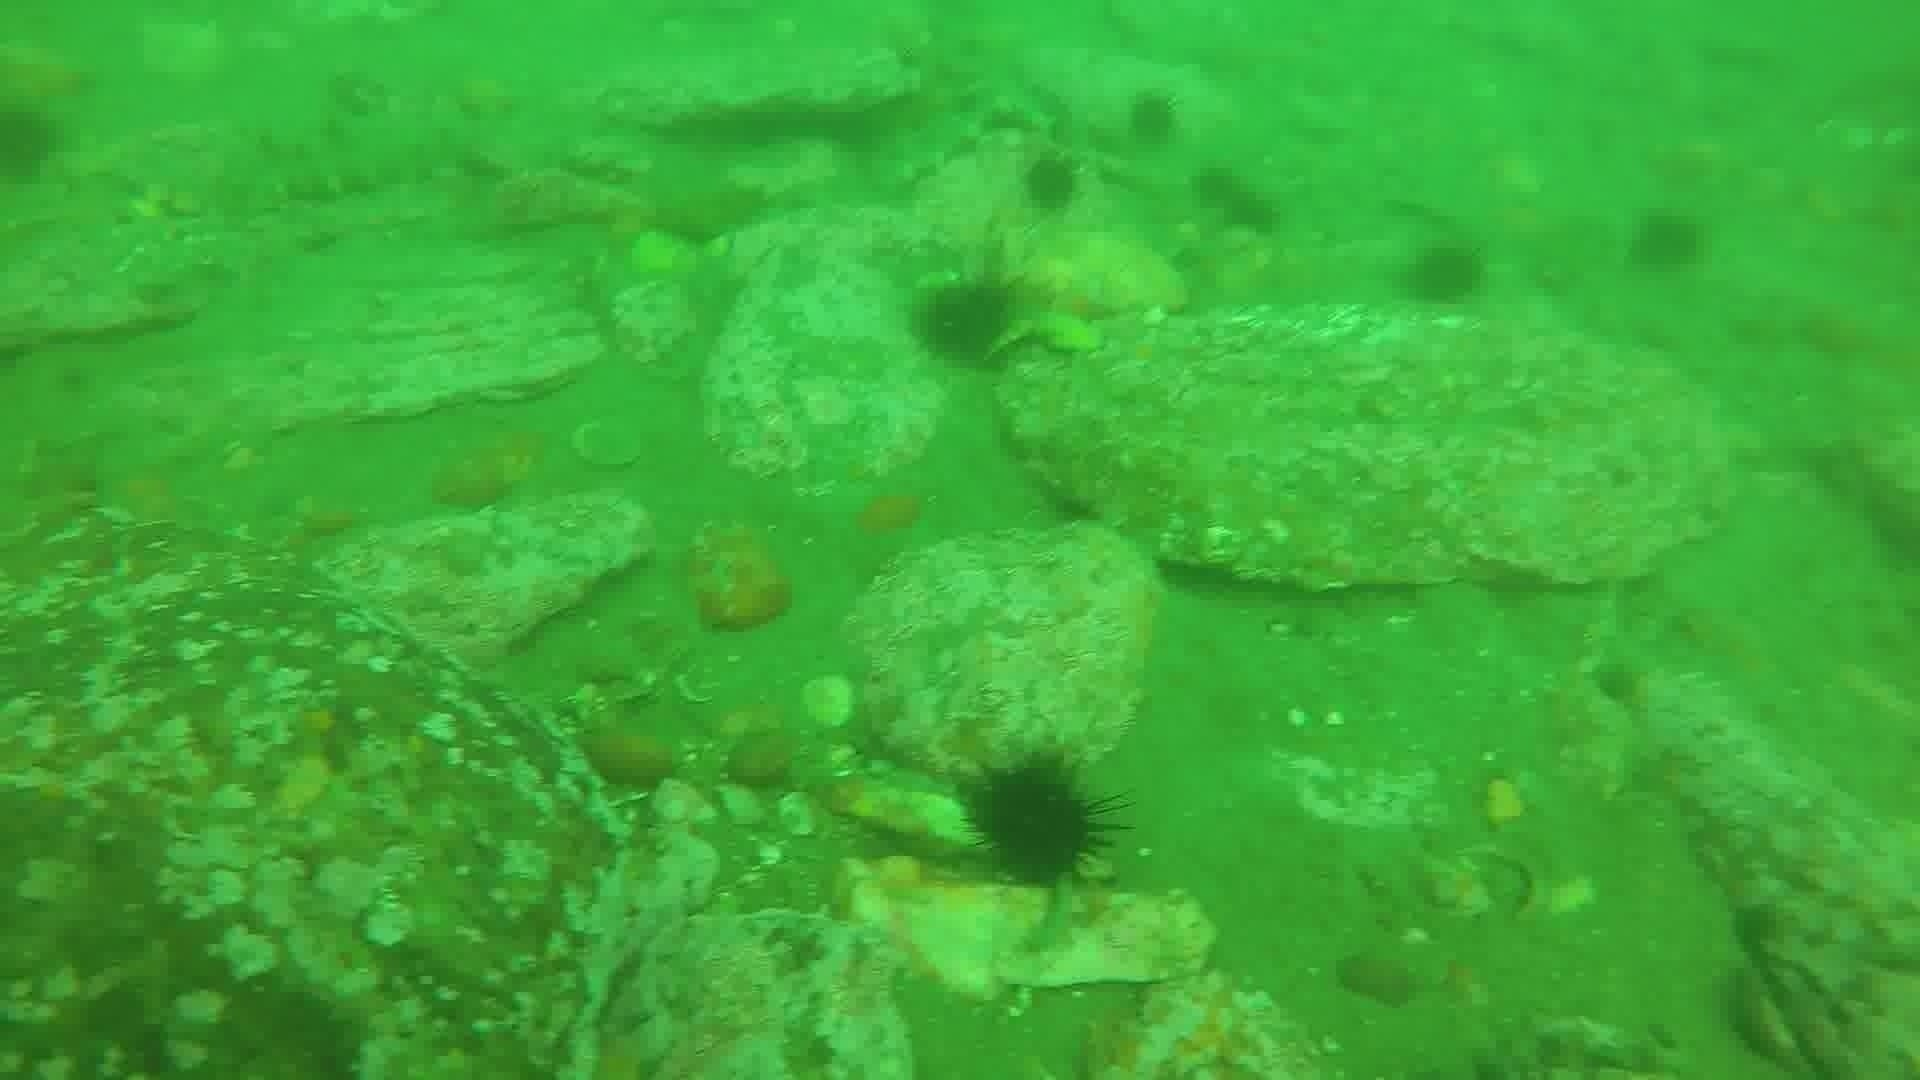echinus: (961, 753, 1122, 893), (909, 270, 1026, 372), (1399, 237, 1489, 311), (1, 98, 66, 189), (1626, 206, 1709, 276), (1015, 148, 1085, 218), (1120, 86, 1185, 152), (1189, 161, 1238, 208), (1229, 193, 1284, 233)
holothurian: (214, 105, 512, 215), (864, 70, 1052, 193)
